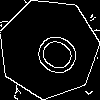O: (23, 23, 83, 81)
